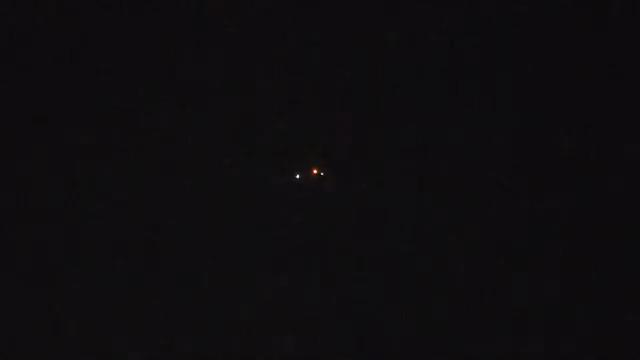Plane: (282, 161, 342, 185)
